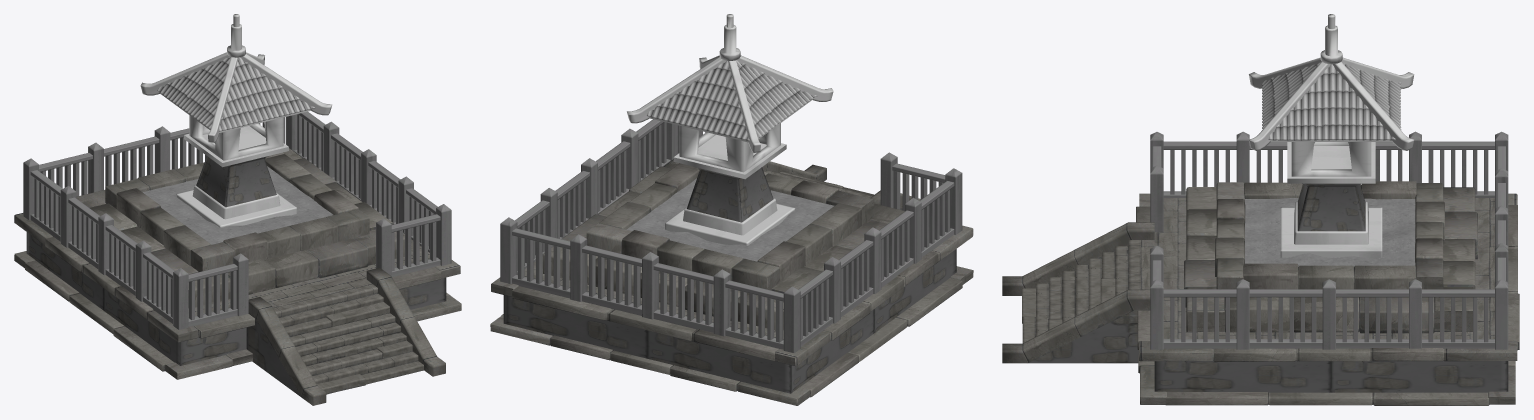
Rendered from SM_ENV_LKNVLD_Building_D.FBX.
The picture shows the model from 3 angles, left to right: view 1: azimuth 30°, elevation 25°; view 2: azimuth 150°, elevation 25°; view 3: azimuth 270°, elevation 25°; orthographic projection. The views are drawn at different scales.
Visible parts, largest first — view 1: SM_ENV_LKNVLD_Building_D; view 2: SM_ENV_LKNVLD_Building_D; view 3: SM_ENV_LKNVLD_Building_D.
Boxes of the visible parts, <box> form: SM_ENV_LKNVLD_Building_D: <box>14,14,461,405</box>; SM_ENV_LKNVLD_Building_D: <box>490,14,973,405</box>; SM_ENV_LKNVLD_Building_D: <box>1002,14,1519,405</box>.
Size of the model in its own units: 868 by 776 by 1171.
